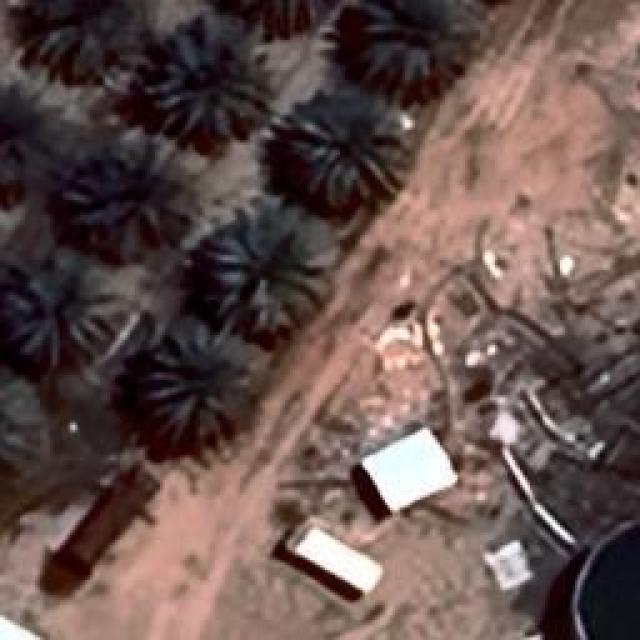PalmTree: (210, 197, 332, 335), (145, 18, 270, 140), (292, 90, 410, 202), (68, 148, 186, 258), (142, 318, 248, 440), (8, 255, 120, 368), (355, 0, 475, 88), (27, 39, 120, 138), (599, 290, 640, 410), (0, 361, 34, 477), (224, 0, 344, 30)
